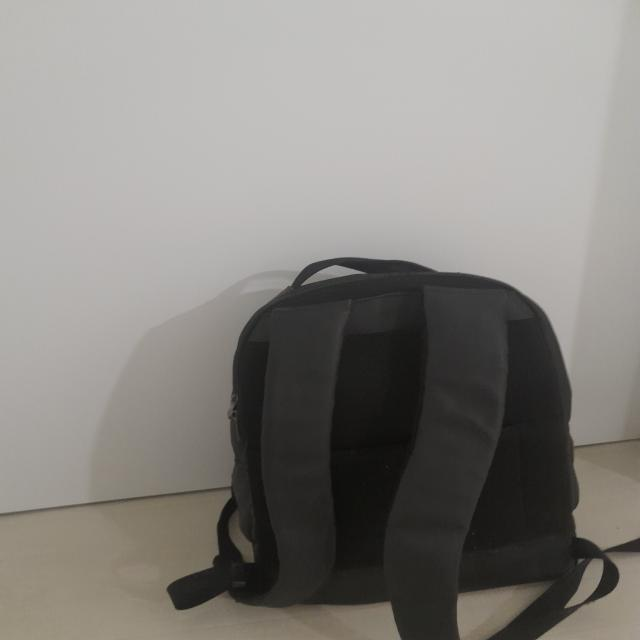backpack: (168, 257, 640, 640)
